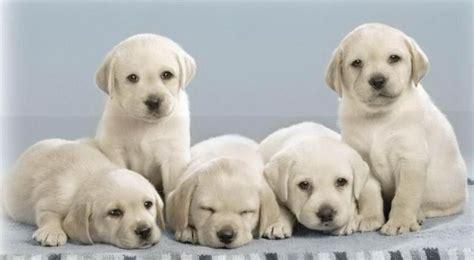dog: (326, 23, 467, 235), (3, 138, 163, 249), (95, 33, 196, 186), (260, 122, 383, 238), (165, 135, 278, 248)
